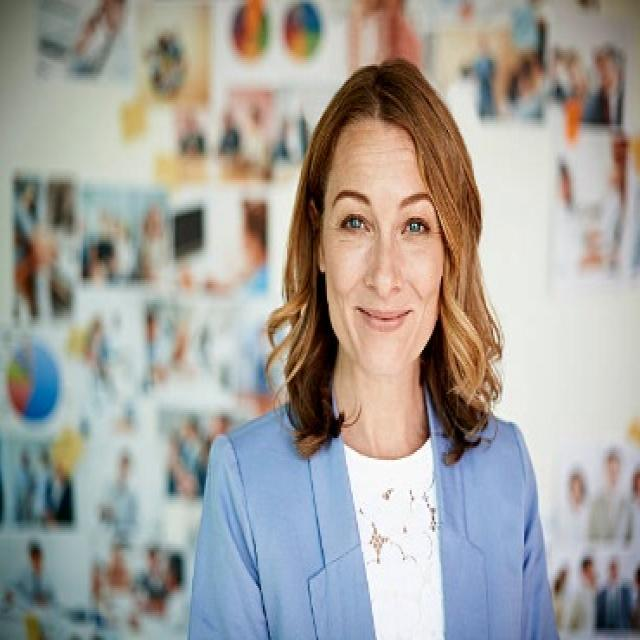adult: (197, 53, 586, 640)
